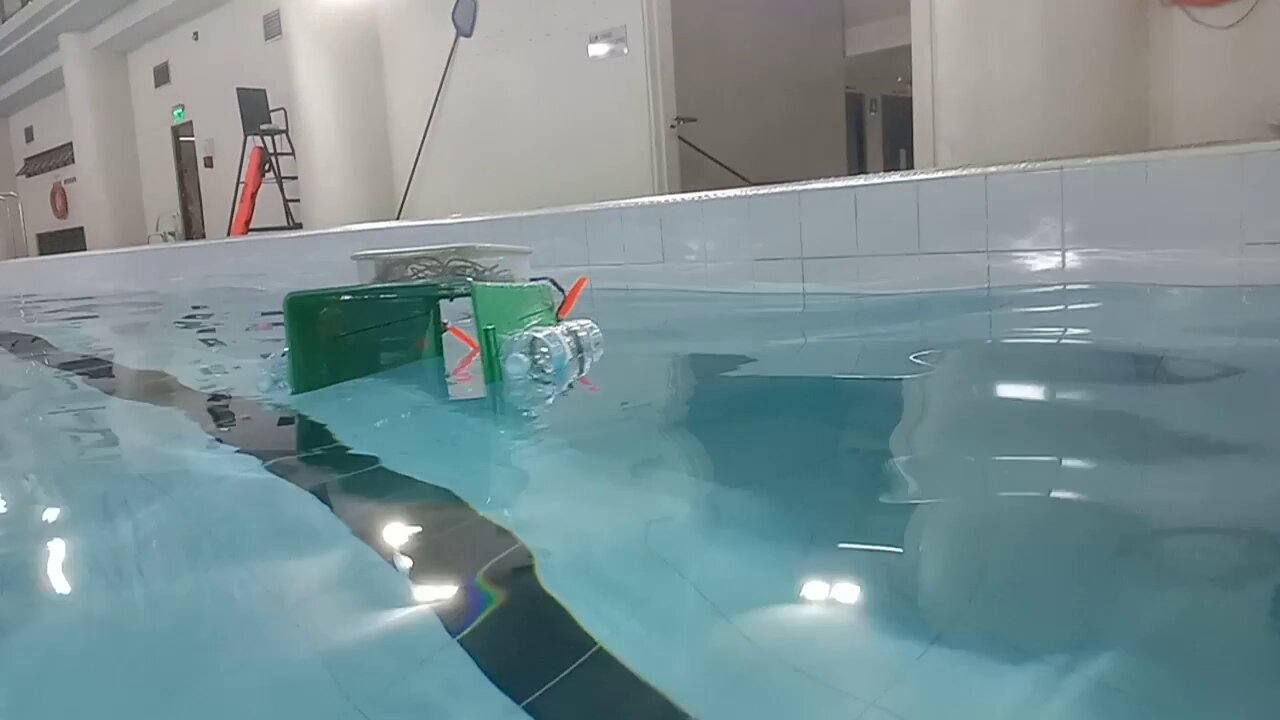drone: (257, 242, 605, 397)
